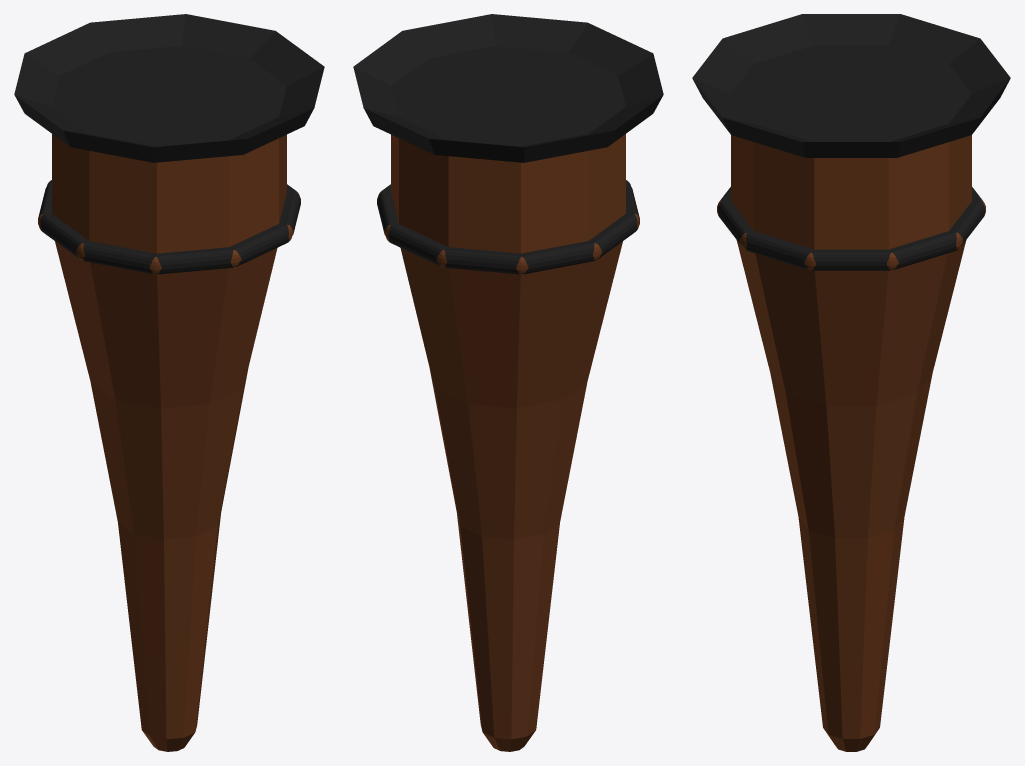
File: torch 1.fbx
3 views of the same model, side by side, from view 1: azimuth 30°, elevation 25°; view 2: azimuth 150°, elevation 25°; view 3: azimuth 270°, elevation 25° (orthographic).
Parts seen in each view (by area): view 1: Cone; view 2: Cone; view 3: Cone.
Part boxes in pixels (x1=…): Cone: x1=14, y1=14, x2=324, y2=751; Cone: x1=353, y1=14, x2=663, y2=751; Cone: x1=692, y1=14, x2=1010, y2=751.
Size of the model in its own units: 17.32 by 42.08 by 18.21.
